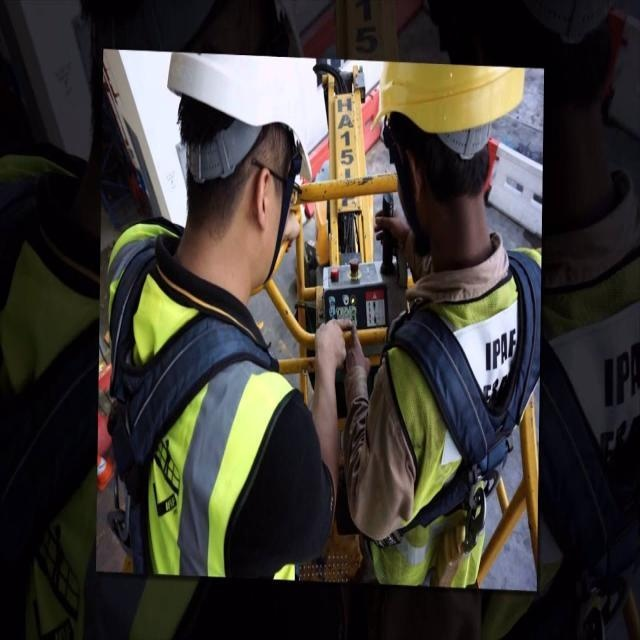Arnes_seguridad: (101, 226, 329, 582), (362, 249, 540, 551)
